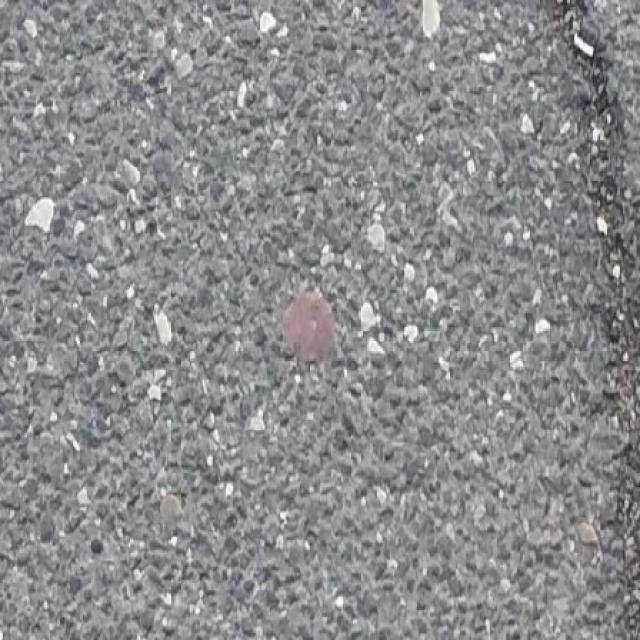Vertical Crack: (541, 0, 640, 640)
